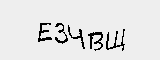В: (87, 29, 104, 51)
Е: (34, 21, 53, 44)
З: (52, 21, 69, 46)
Ч: (67, 24, 86, 51)
Щ: (105, 27, 125, 52)
